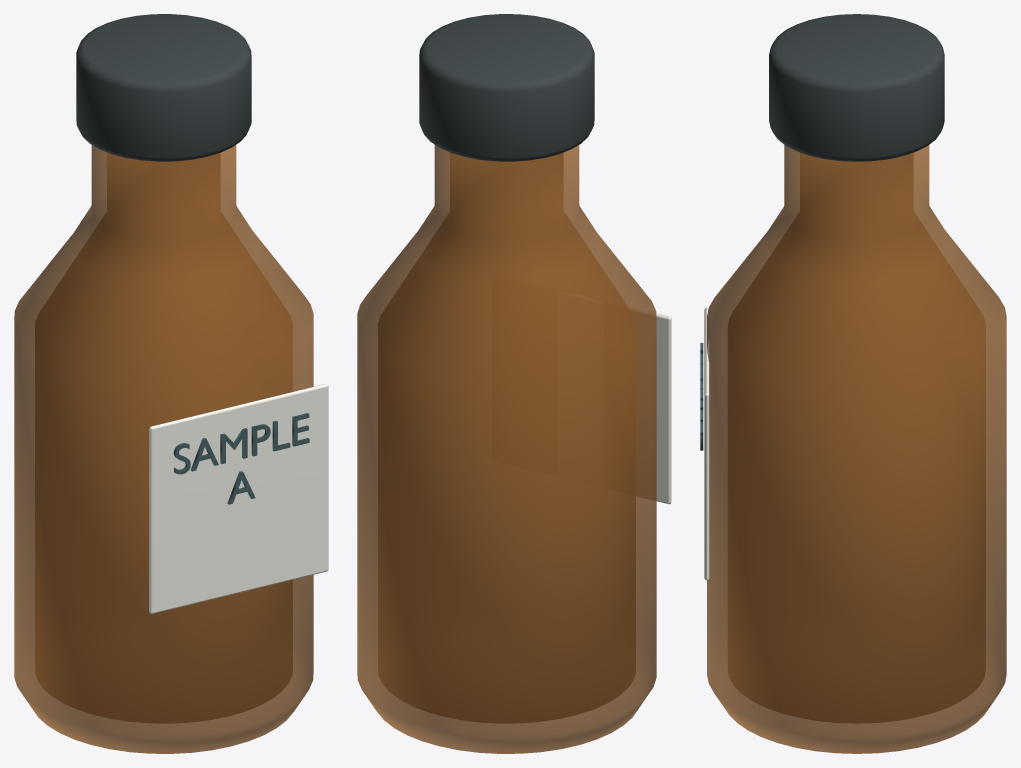
Rendered from reagent-bottle.glb.
3 views of the same model, side by side, from view 1: azimuth 30°, elevation 25°; view 2: azimuth 150°, elevation 25°; view 3: azimuth 270°, elevation 25° (orthographic).
Parts seen in each view (by area): view 1: Amber bottle.001, Bottle paper label.001, Screw cap.001, Bottle label.001; view 2: Amber bottle.001, Screw cap.001, Bottle paper label.001; view 3: Amber bottle.001, Screw cap.001, Bottle paper label.001.
Part boxes in pixels (x1,y1,x2,y2): Amber bottle.001: (14, 145, 313, 753); Bottle paper label.001: (149, 384, 328, 613); Screw cap.001: (76, 14, 251, 161); Bottle label.001: (173, 413, 309, 504); Amber bottle.001: (357, 145, 656, 753); Screw cap.001: (419, 14, 594, 161); Bottle paper label.001: (629, 307, 671, 504); Amber bottle.001: (707, 145, 1006, 753); Screw cap.001: (769, 14, 944, 161); Bottle paper label.001: (704, 307, 709, 580).
Bounding box in the file's own units: 0.058 × 0.1385 × 0.0593.
